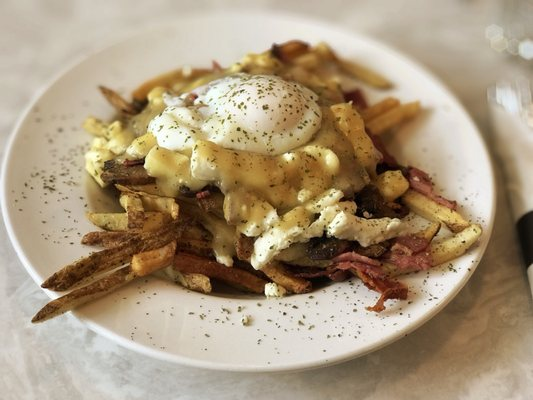curry: (0, 0, 517, 400)
